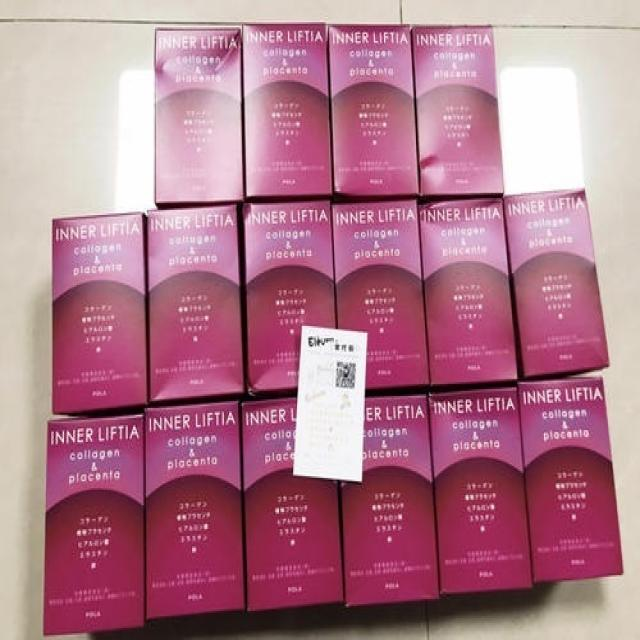box: (42, 413, 145, 637), (517, 375, 623, 584), (145, 401, 246, 620), (241, 396, 343, 611), (429, 387, 532, 592), (339, 396, 440, 604), (504, 189, 611, 377), (417, 198, 521, 384), (51, 212, 147, 413), (148, 205, 246, 399), (330, 200, 429, 389), (242, 203, 338, 393), (243, 22, 335, 201), (412, 24, 506, 198), (154, 27, 244, 208), (328, 24, 420, 201)
